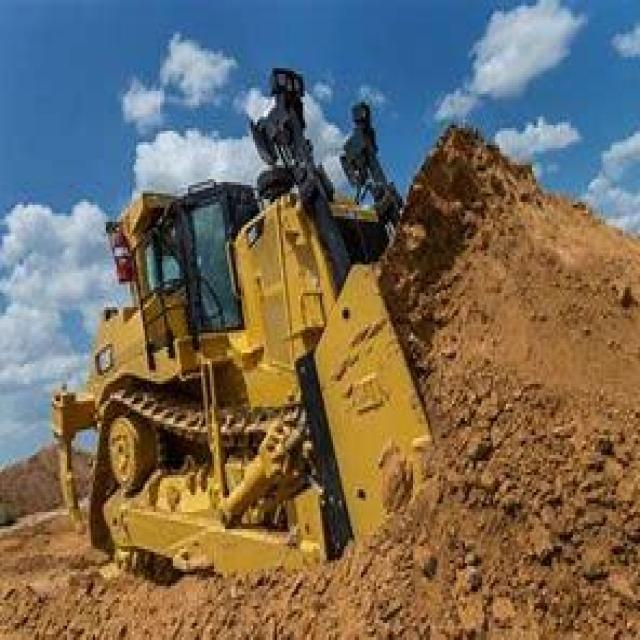buldozerpayloadergrader: (19, 69, 573, 580)
